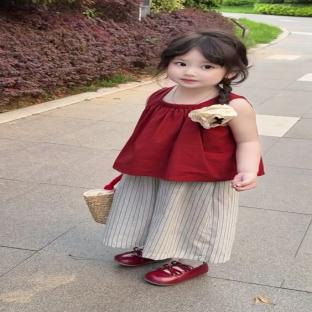Human: (104, 30, 264, 285)
